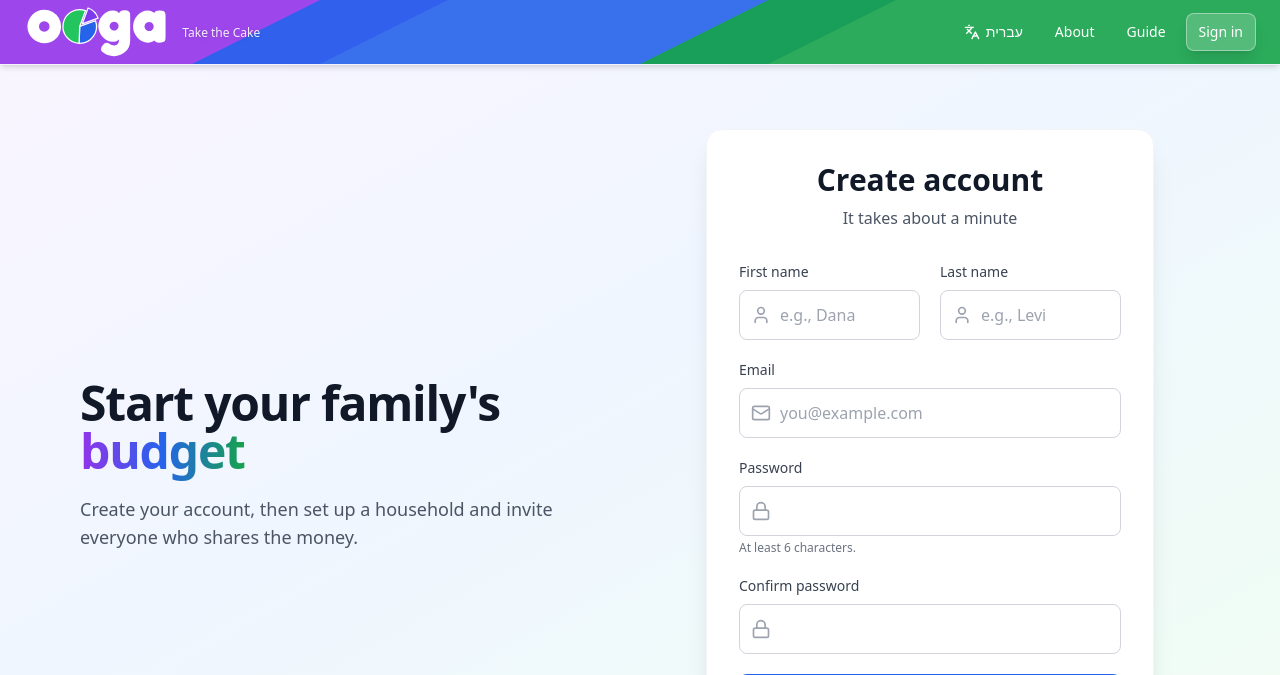
Test: Register page › explains a password mismatch and doesn't sign up
The width and height of the screenshot is (1280, 675).
Type " Dana " into the field labelled "First name". click: {"x": 830, "y": 315}
box: top-left (739, 290), bottom-right (920, 340)
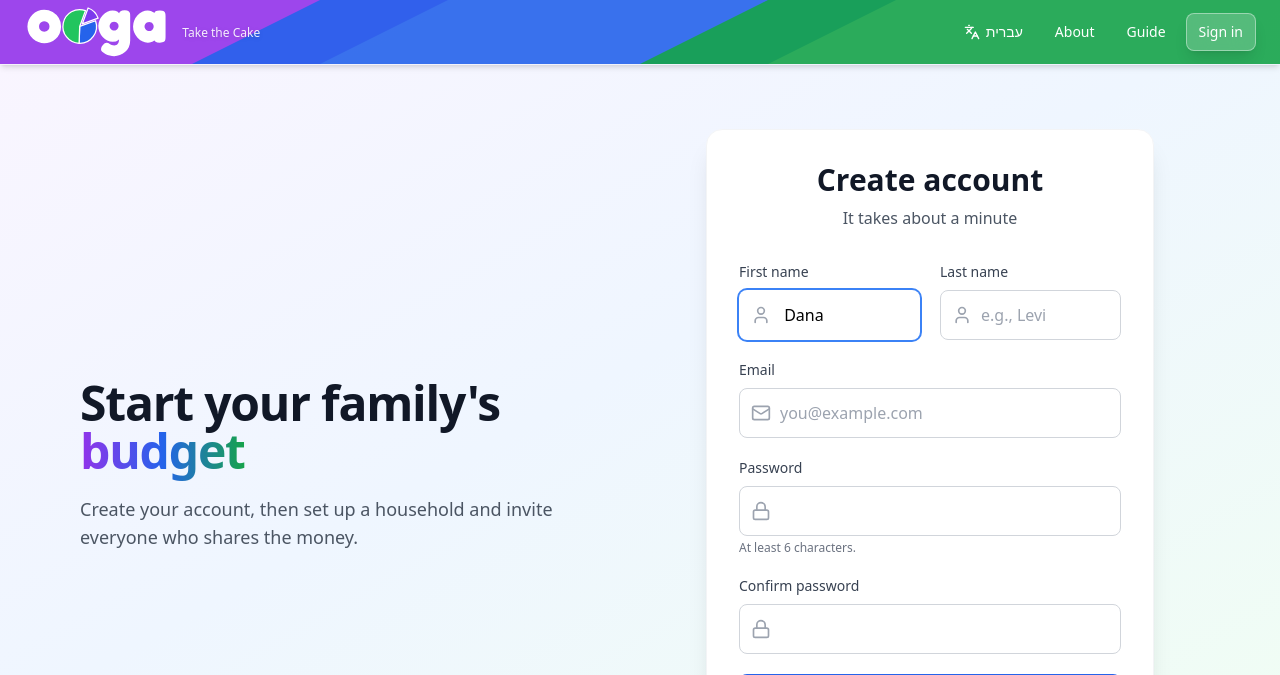
Type "Levi" into the field labelled "Last name". click: {"x": 1030, "y": 315}
box: top-left (940, 290), bottom-right (1121, 340)
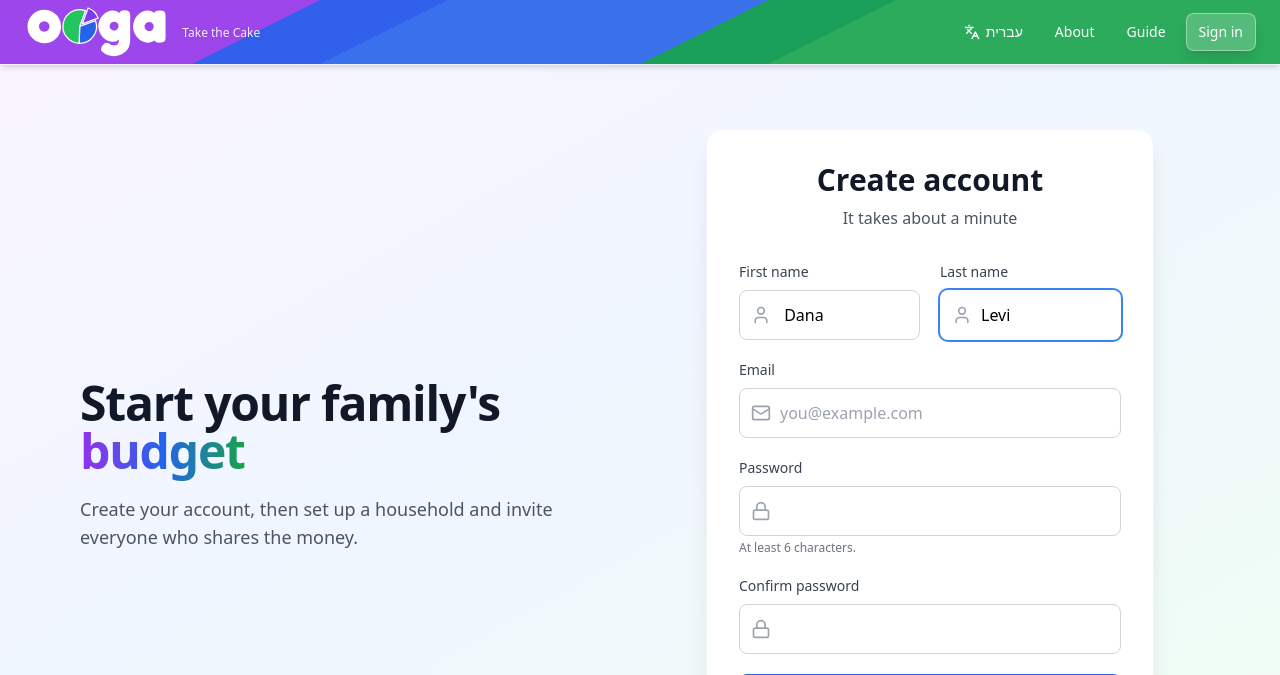
Type "dana@example.com" into the field labelled "Email". click: {"x": 930, "y": 413}
box: top-left (739, 388), bottom-right (1121, 438)
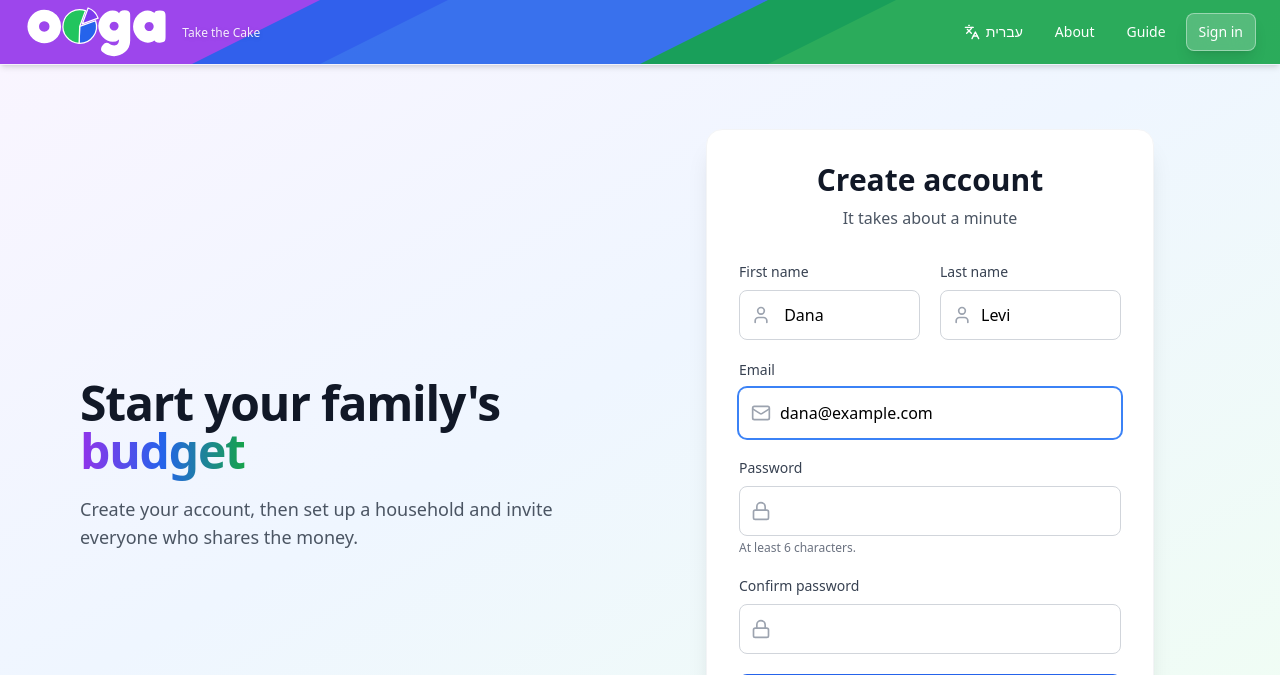
Type "secret1" into the password field labelled "Password". click: {"x": 930, "y": 511}
box: top-left (739, 486), bottom-right (1121, 536)
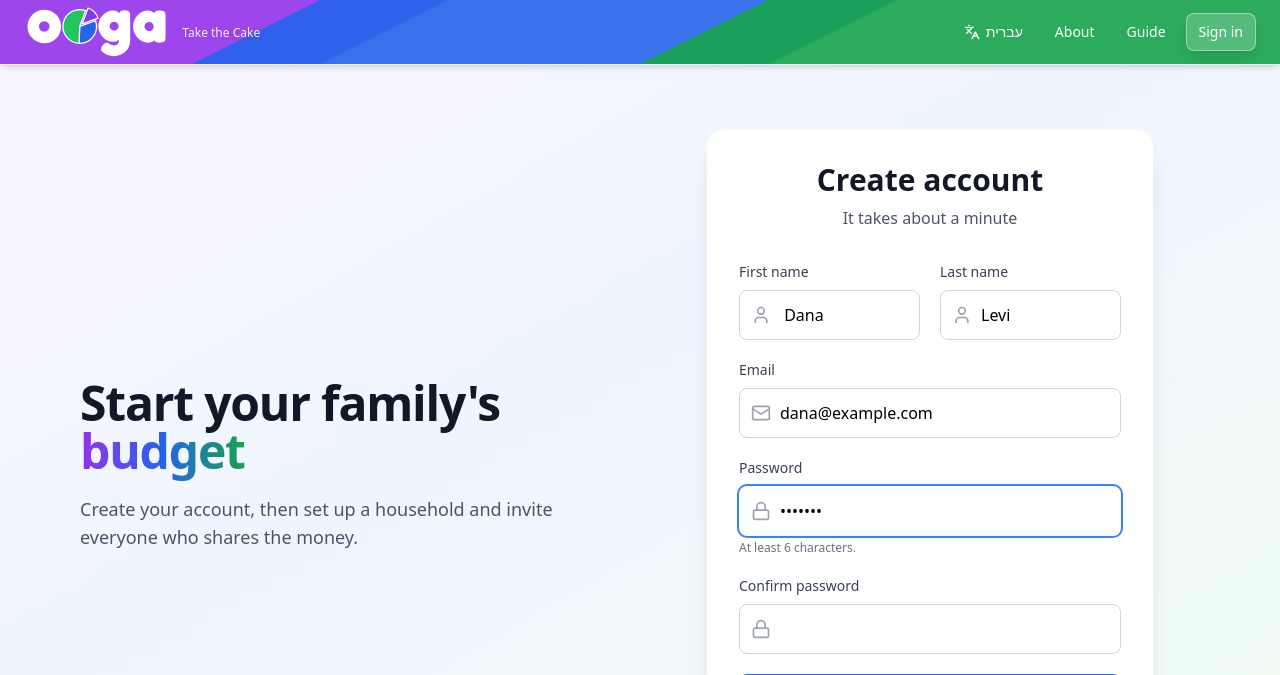
Type "secret2" into the password field labelled "Confirm password". click: {"x": 930, "y": 629}
box: top-left (739, 604), bottom-right (1121, 654)
(page scrolled)
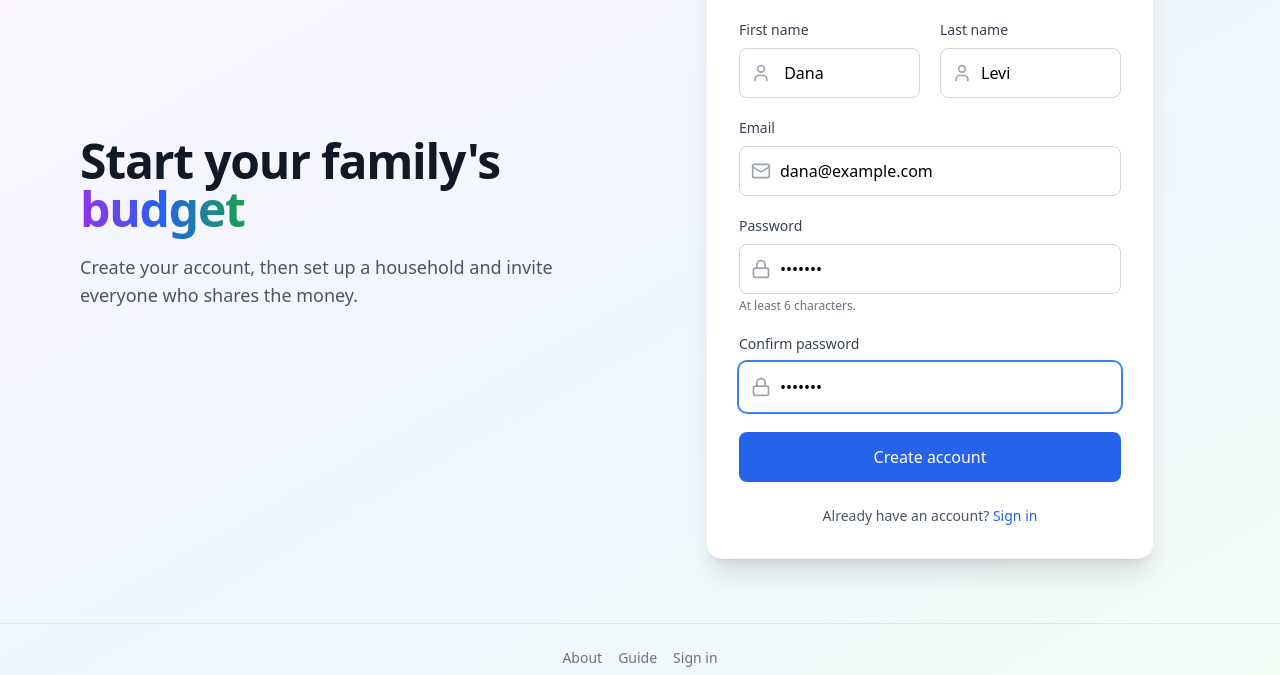
Click the button "Create account". click: {"x": 930, "y": 457}
box: top-left (739, 432), bottom-right (1121, 482)
(page scrolled)
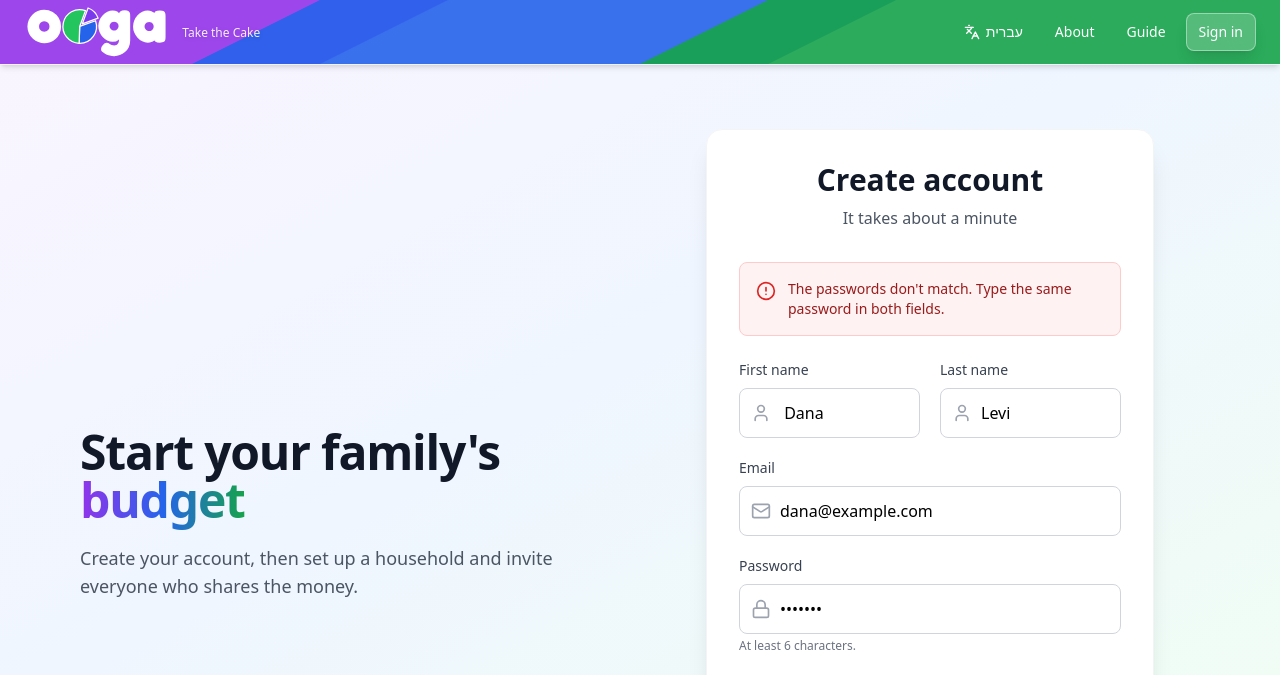
expect the message reads "The passwords don't match. Type the same password in both fields.": met, box top-left (788, 279), bottom-right (1072, 318)
